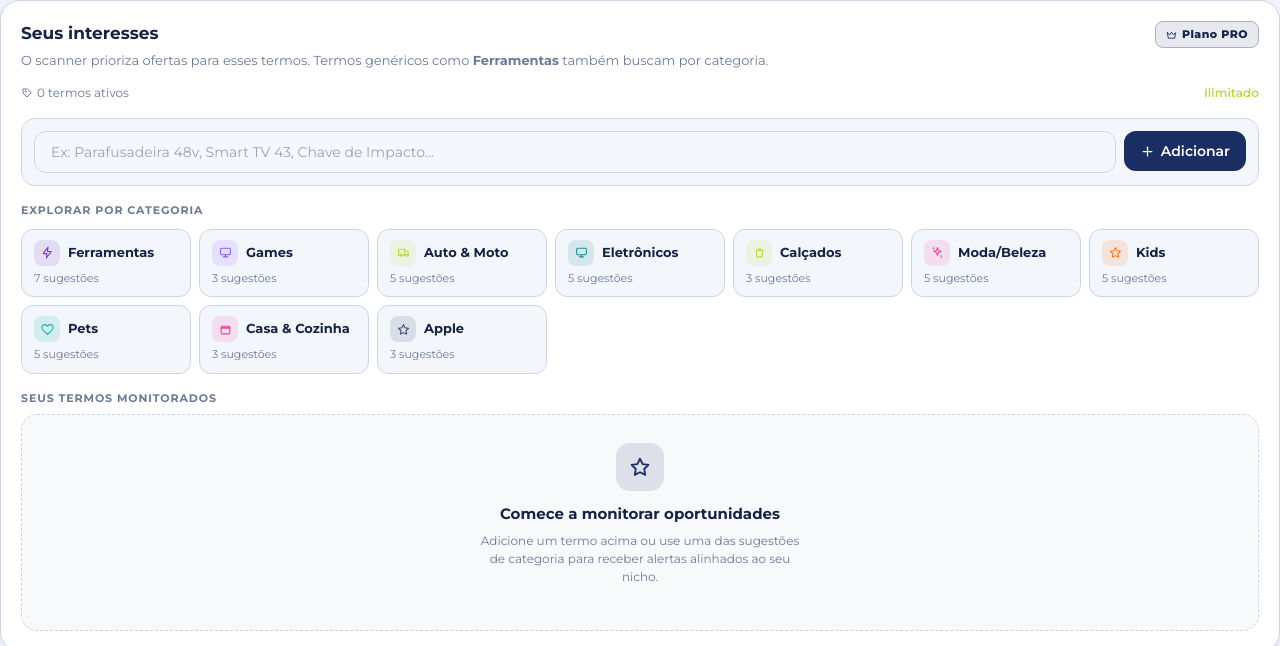
interests mobile layout › shows high-demand products from the Fechou o Brique report
The image size is (1280, 646).
Click the button "Ferramentas 7 sugestões" at (106, 263), box [21,228,191,297]
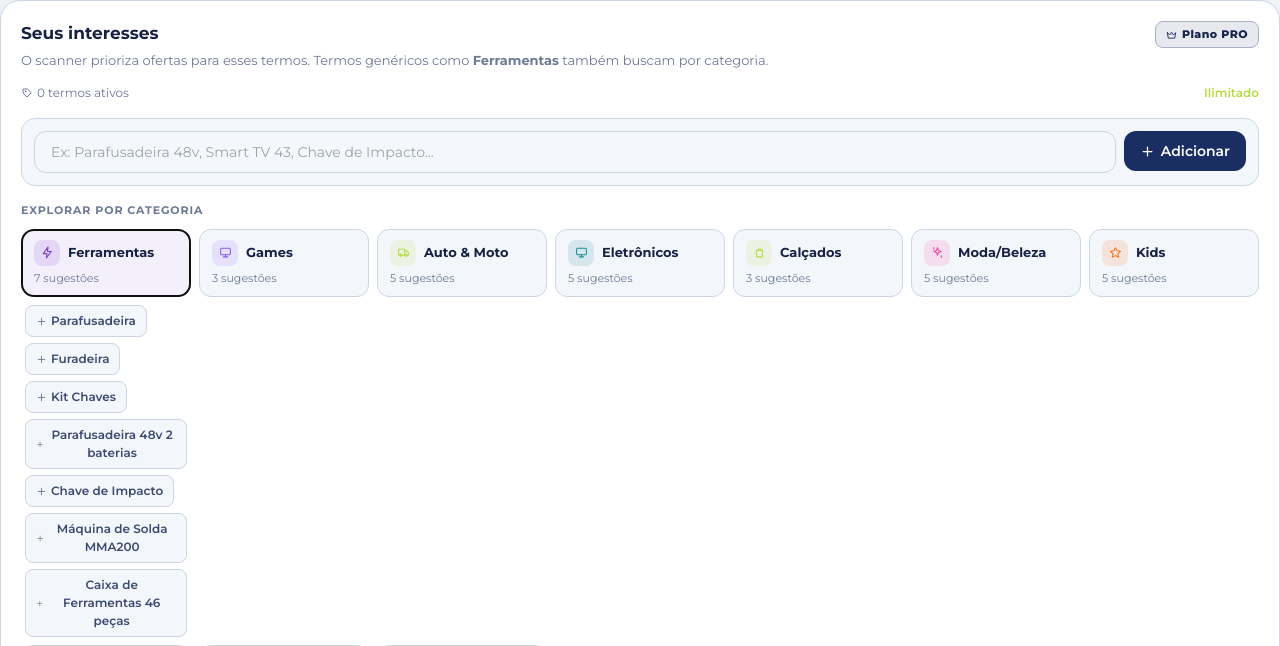
Check: the button "Parafusadeira 48v 2 baterias" is shown, box [25,419,187,469]
Check: the button "Chave de Impacto" is shown, box [25,475,174,507]
Check: the button "Máquina de Solda MMA200" is shown, box [25,513,187,563]
Click the button "Auto & Moto 5 sugestões" at (462, 263), box [377,228,547,297]
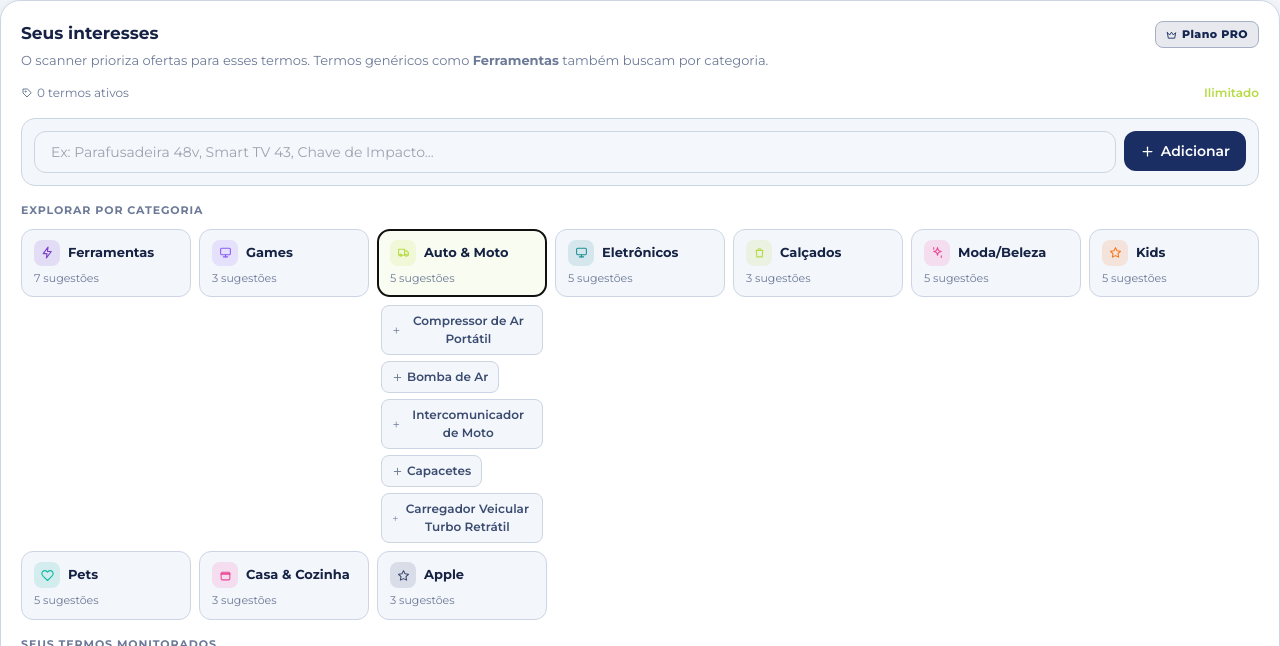
Check: the button "Compressor de Ar Portátil" is shown, box [381,305,543,355]
Check: the button "Bomba de Ar" is shown, box [381,361,499,393]
Check: the button "Intercomunicador de Moto" is shown, box [381,399,543,449]
Click the button "Eletrônicos 5 sugestões" at (640, 263), box [555,228,725,297]
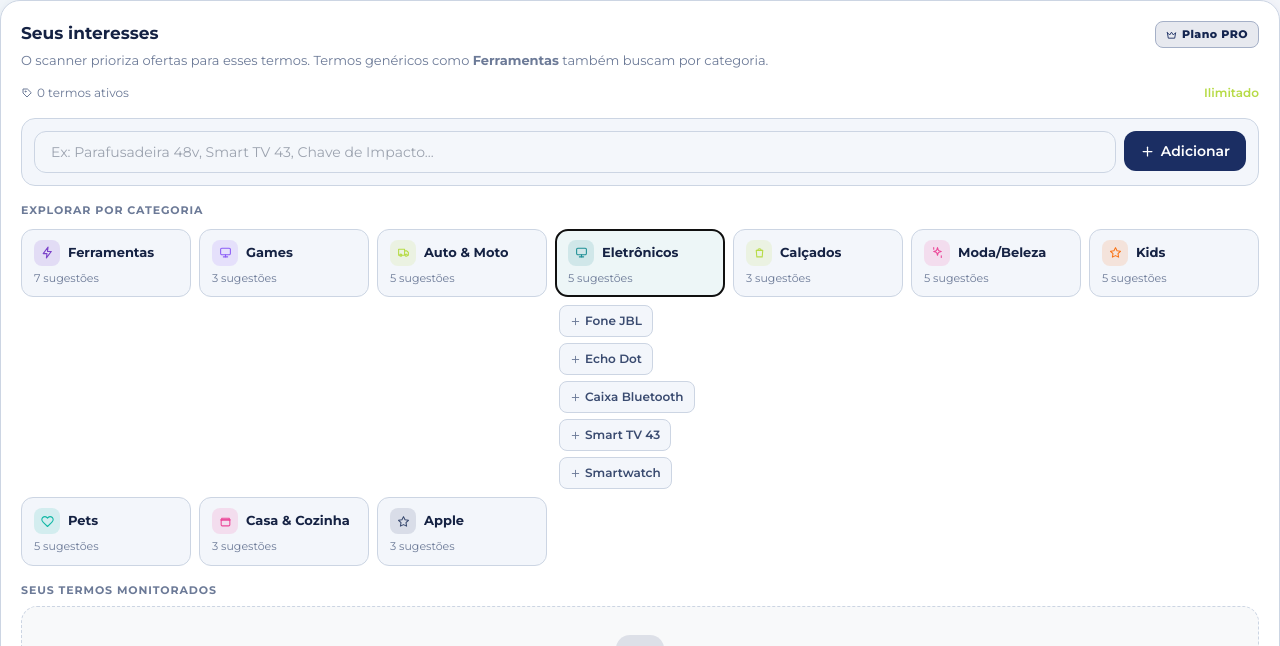
Check: the button "Smart TV 43" is shown, box [559,419,671,451]
Check: the button "Smartwatch" is shown, box [559,457,672,489]
Click the button "Moda/Beleza 5 sugestões" at (996, 263), box [911,228,1081,297]
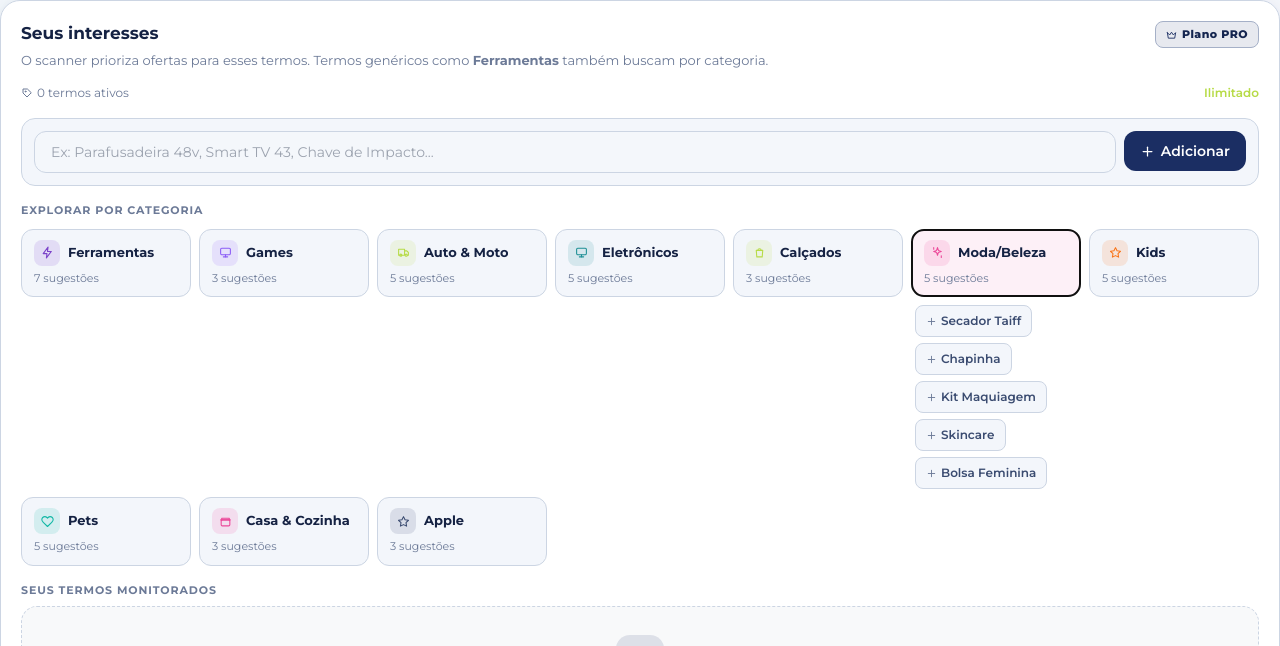
Check: the button "Secador Taiff" is shown, box [915,305,1032,337]
Check: the button "Kit Maquiagem" is shown, box [915,381,1047,413]
Click the button "Kids 5 sugestões" at (1174, 263), box [1089,228,1259,297]
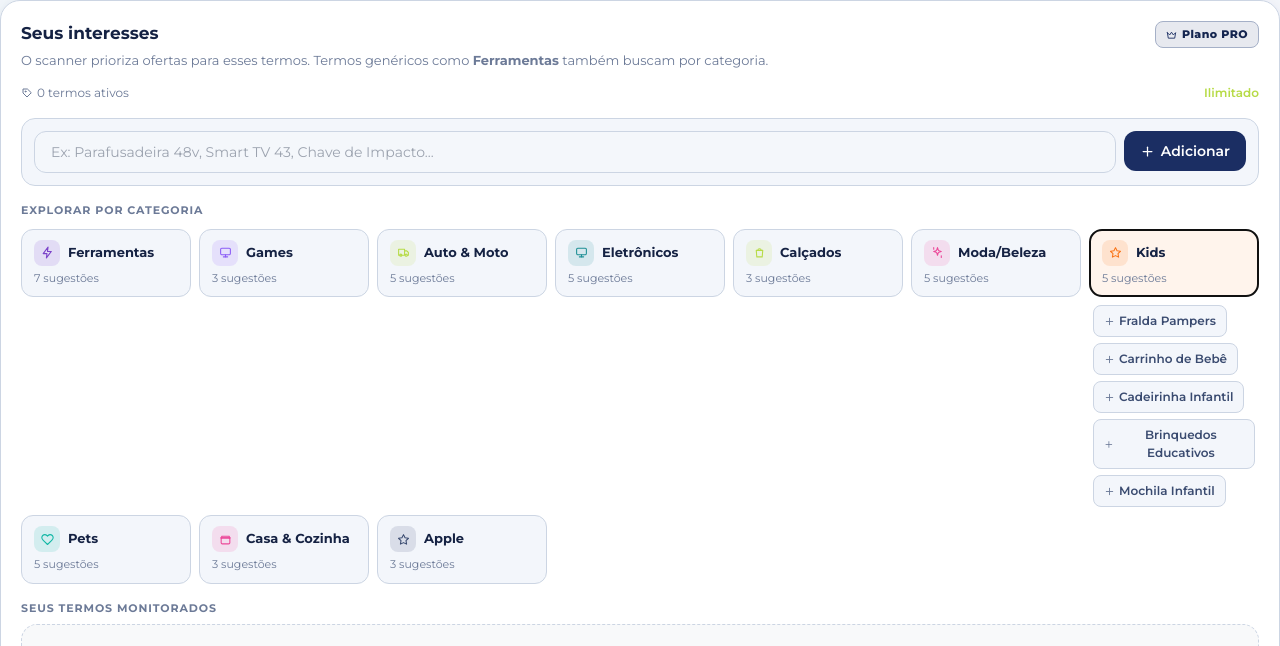
Check: the button "Fralda Pampers" is shown, box [1093,305,1227,337]
Check: the button "Cadeirinha Infantil" is shown, box [1093,381,1244,413]
Click the button "Pets 5 sugestões" at (106, 549), box [21,515,191,584]
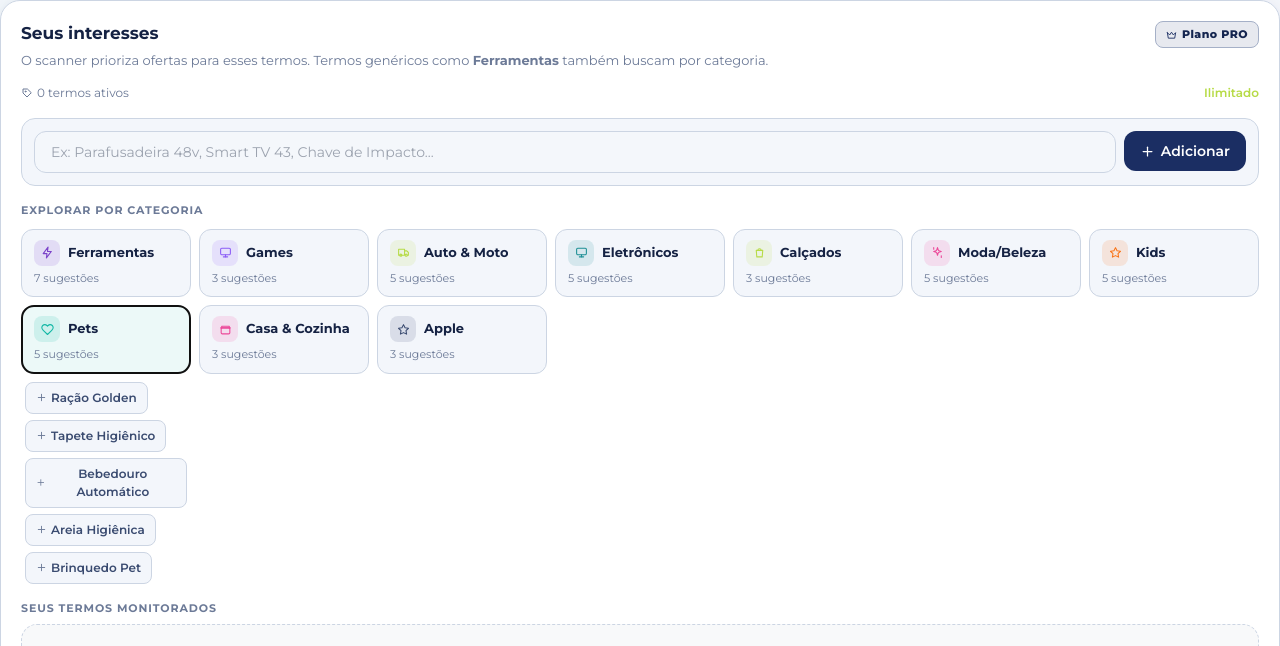
Check: the button "Ração Golden" is shown, box [25,382,148,414]
Check: the button "Tapete Higiênico" is shown, box [25,420,166,452]
